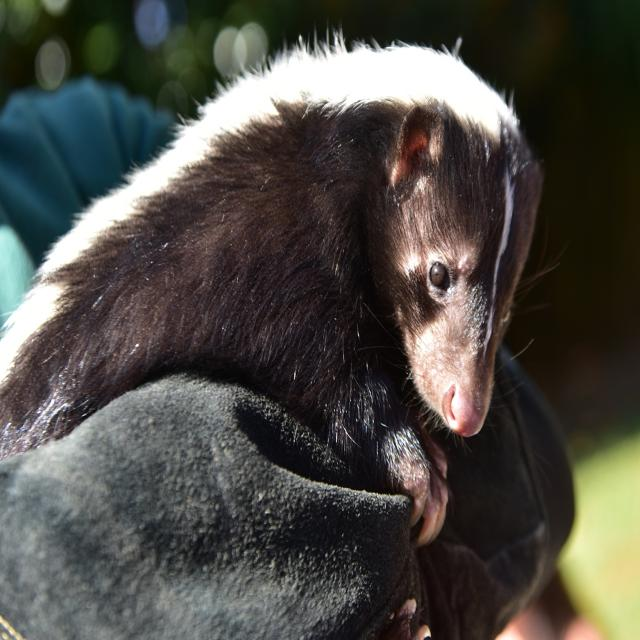Skunk: (0, 58, 546, 516)
